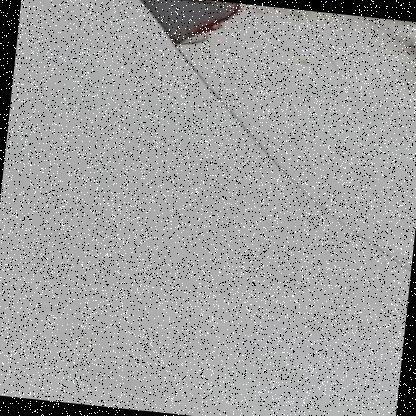Crack: (132, 43, 415, 290), (104, 0, 287, 60)
